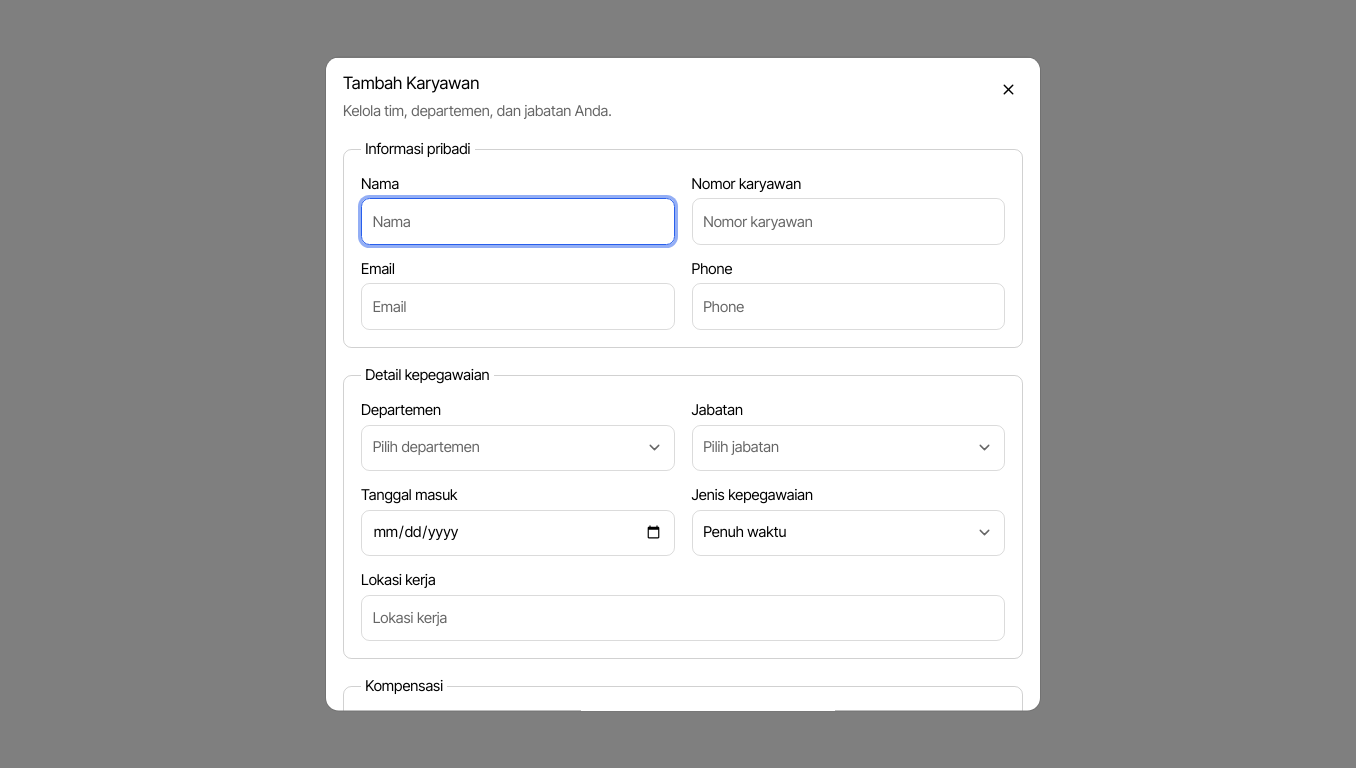
Test: EmployeeFormDialog branches › does not save when creation fails
The image size is (1366, 768).
Check: the heading "Tambah Karyawan" is shown, box [343,73,479,93]
Type "Alex" into the field with placeholder "Nama".
click(518, 221); type("Alex")  # box [361,198,674,245]
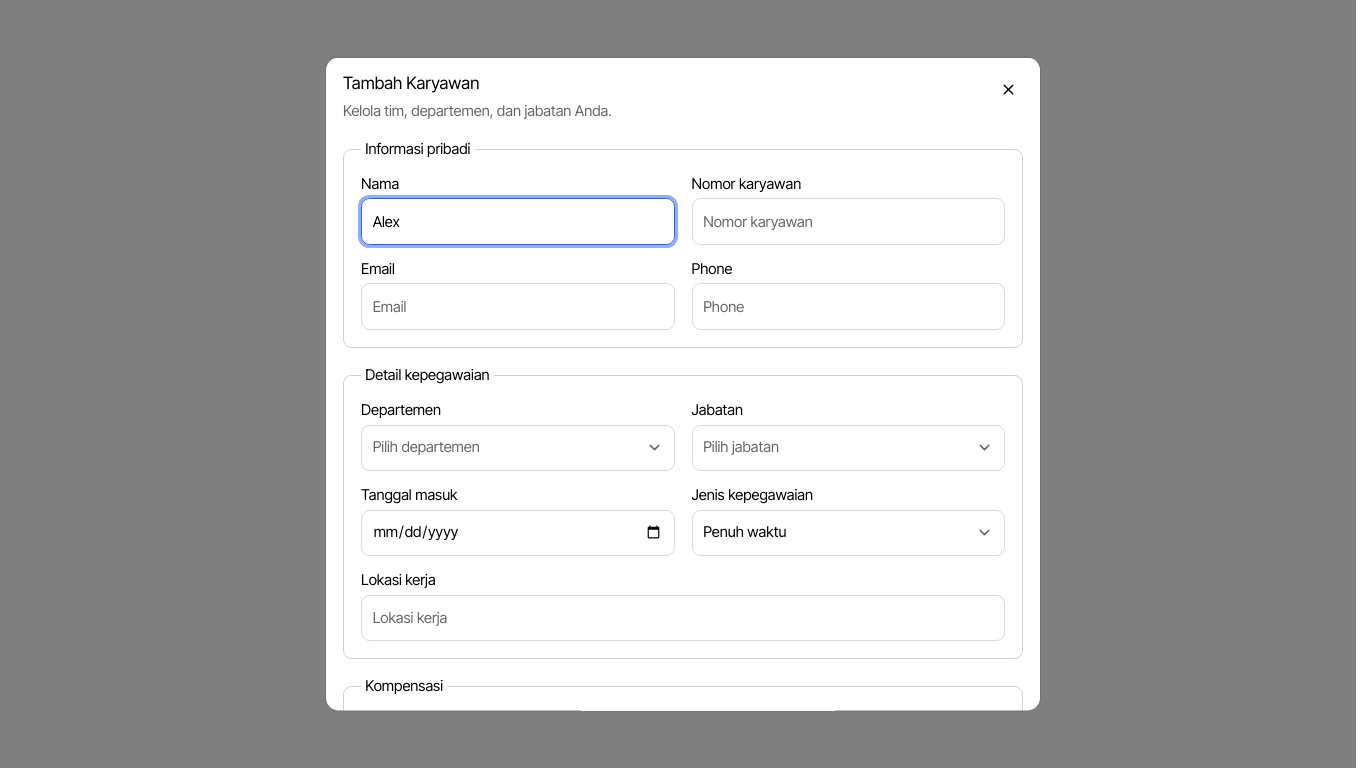
Type "EMP-1" into the field labelled "Nomor karyawan".
click(848, 221); type("EMP-1")  # box [692,198,1005,245]
(page scrolled)
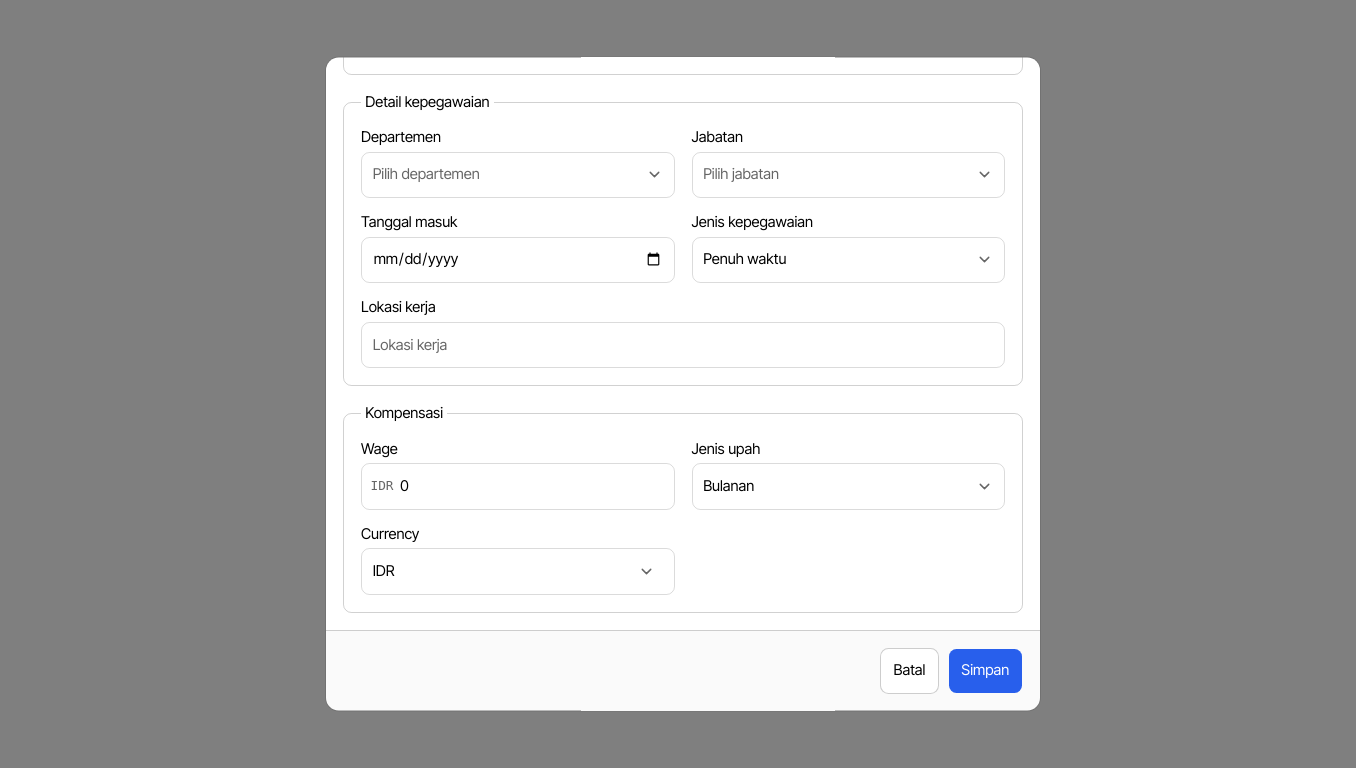
Click the button "Simpan".
click(985, 670)  # box [948,647,1023,694]
(page scrolled)
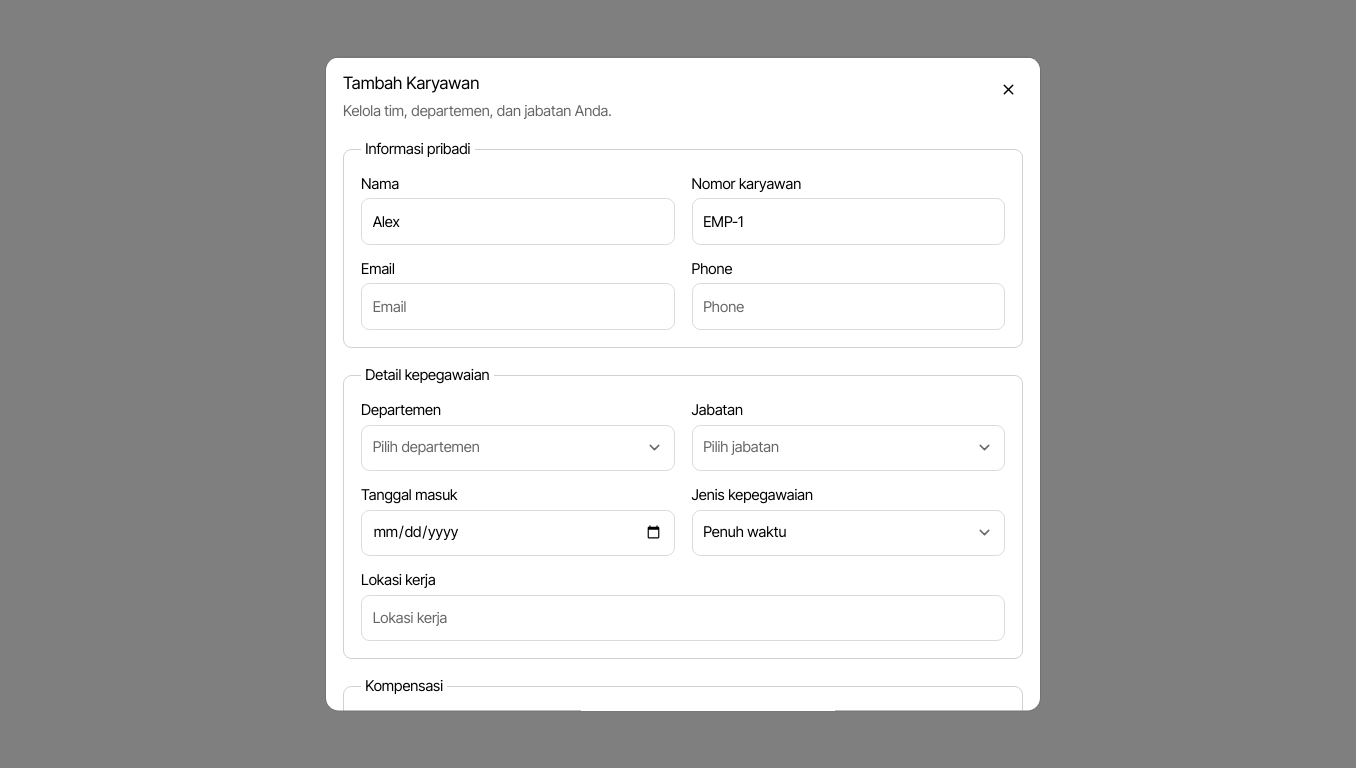
Check: the heading "Tambah Karyawan" is shown, box [343,73,479,93]
